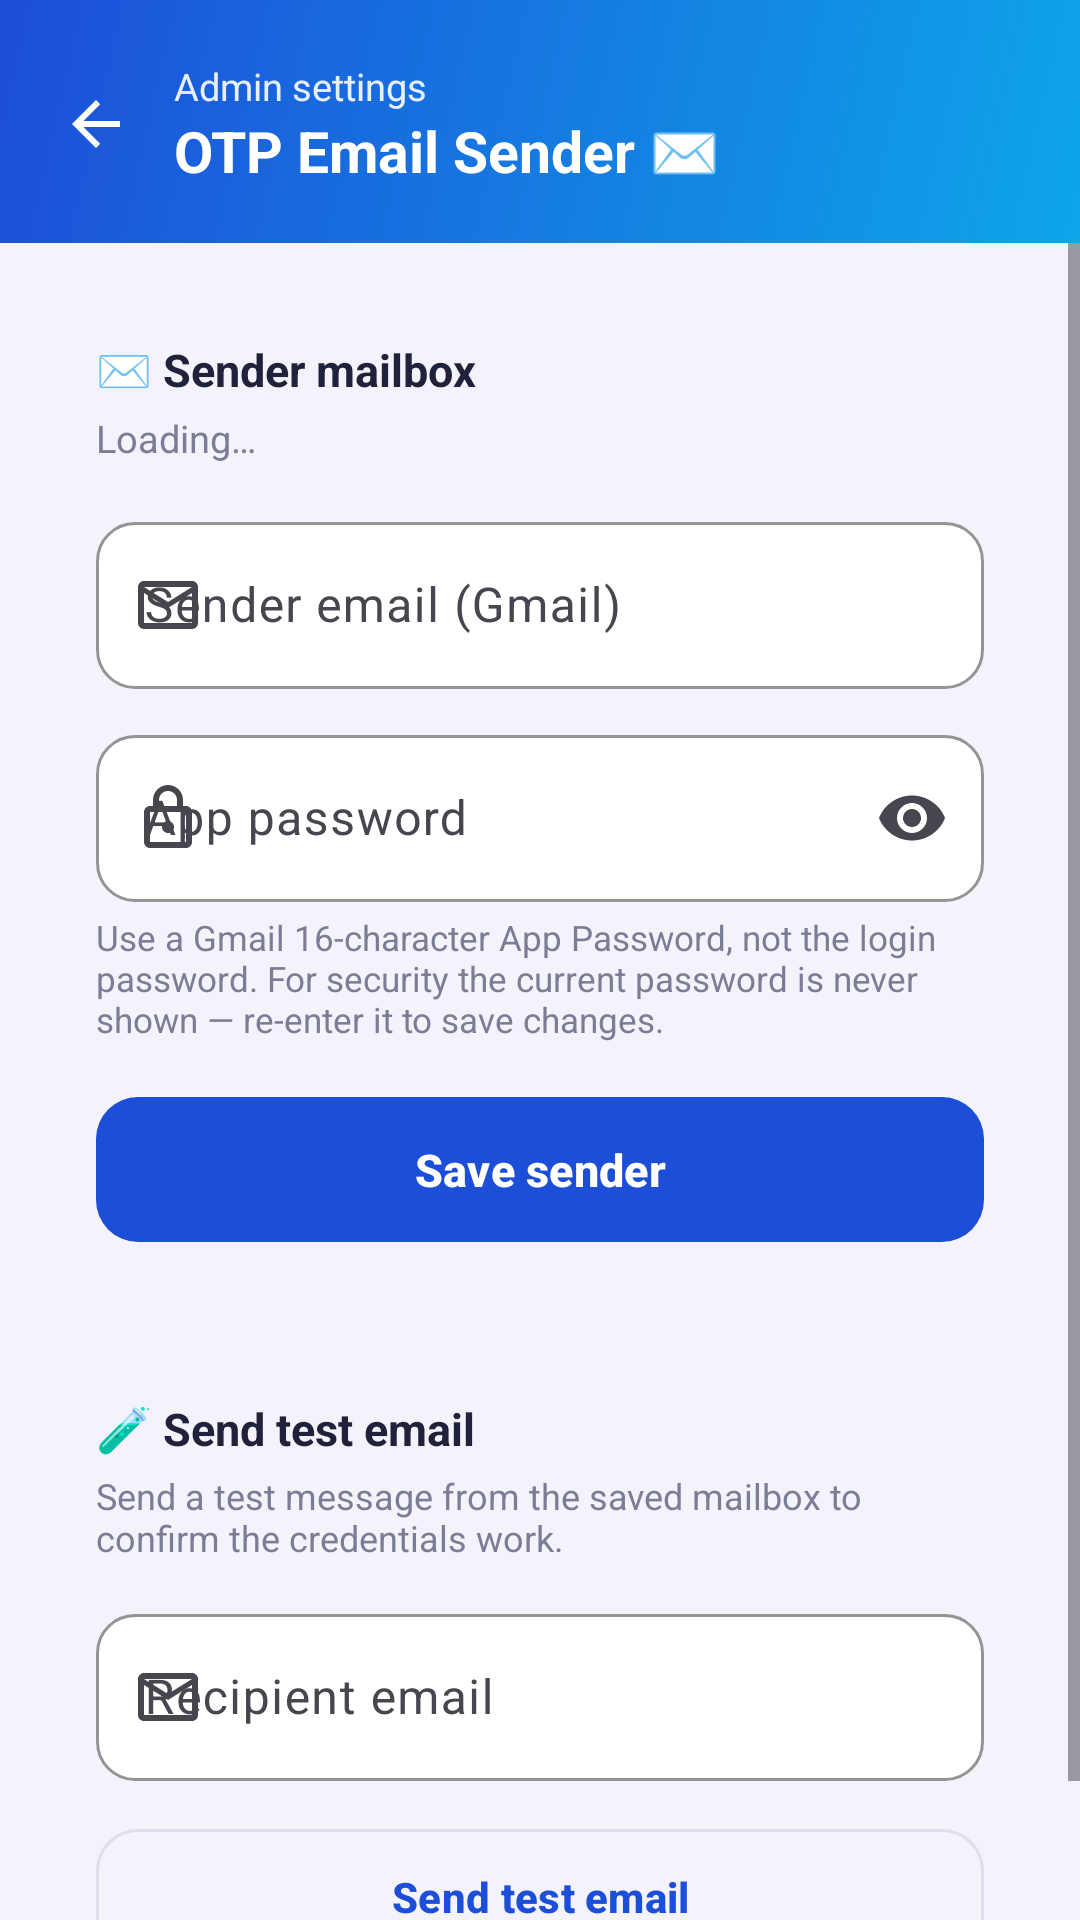

Point at icon controls on the screen. Image size 1080 x 1920, points as point (x, y).
Back: point (96, 124)
